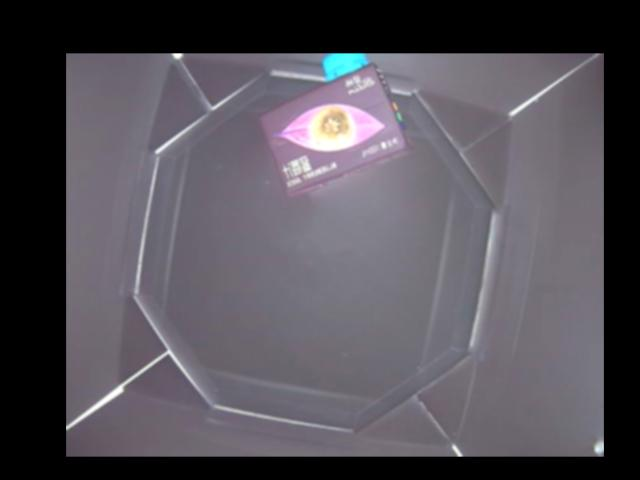Bottle: (258, 54, 407, 197)
